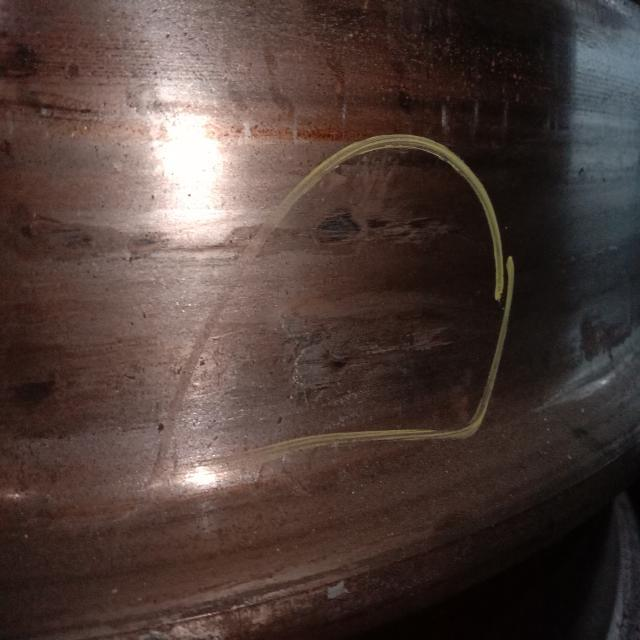Rollerpile: (294, 323, 456, 391), (313, 205, 453, 255)
